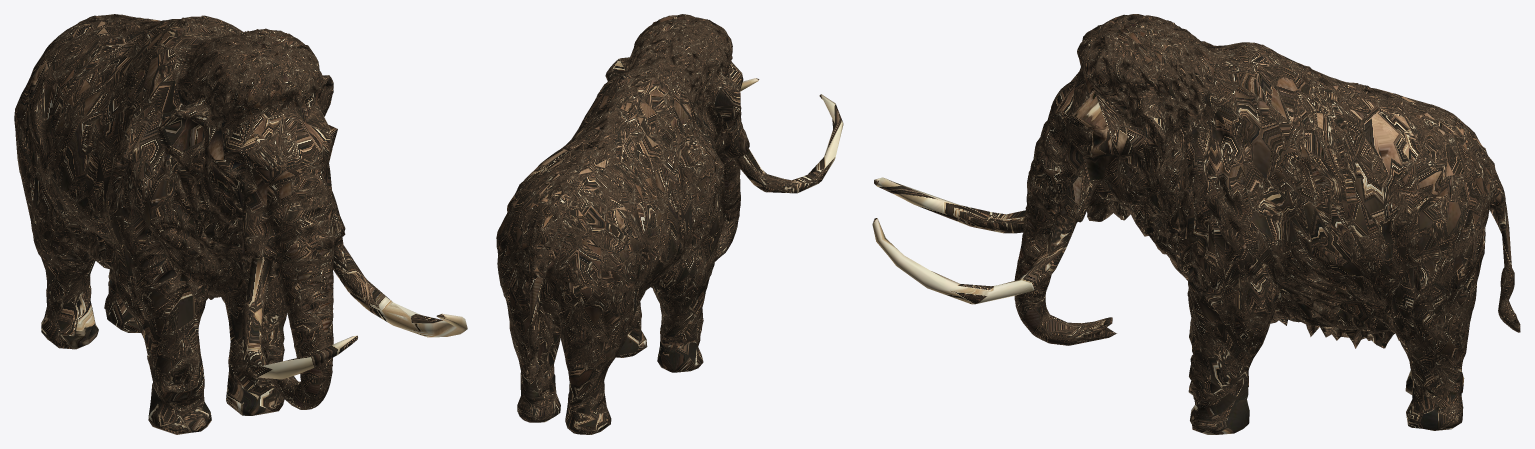
Rendered from mammoth.glb.
3 views of the same model, side by side, from view 1: azimuth 30°, elevation 25°; view 2: azimuth 150°, elevation 25°; view 3: azimuth 270°, elevation 25° (orthographic). The views are drawn at different scales.
Size of the model in its own units: 0.6034 by 1.24 by 1.9.
1 material, 1 textured.
